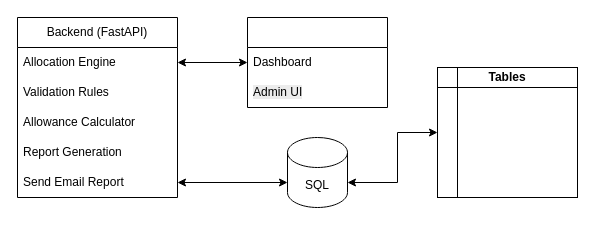
The diagram is 615 pixels wide and 225 high, and some of its shapes have lost their labels. Here are the shapes that lost their labels. From the top down, the box of each, then its label:
(246, 16, 388, 108): Frontend (ReactJS)
(436, 66, 578, 198): Employee Project Allowance Allocation
